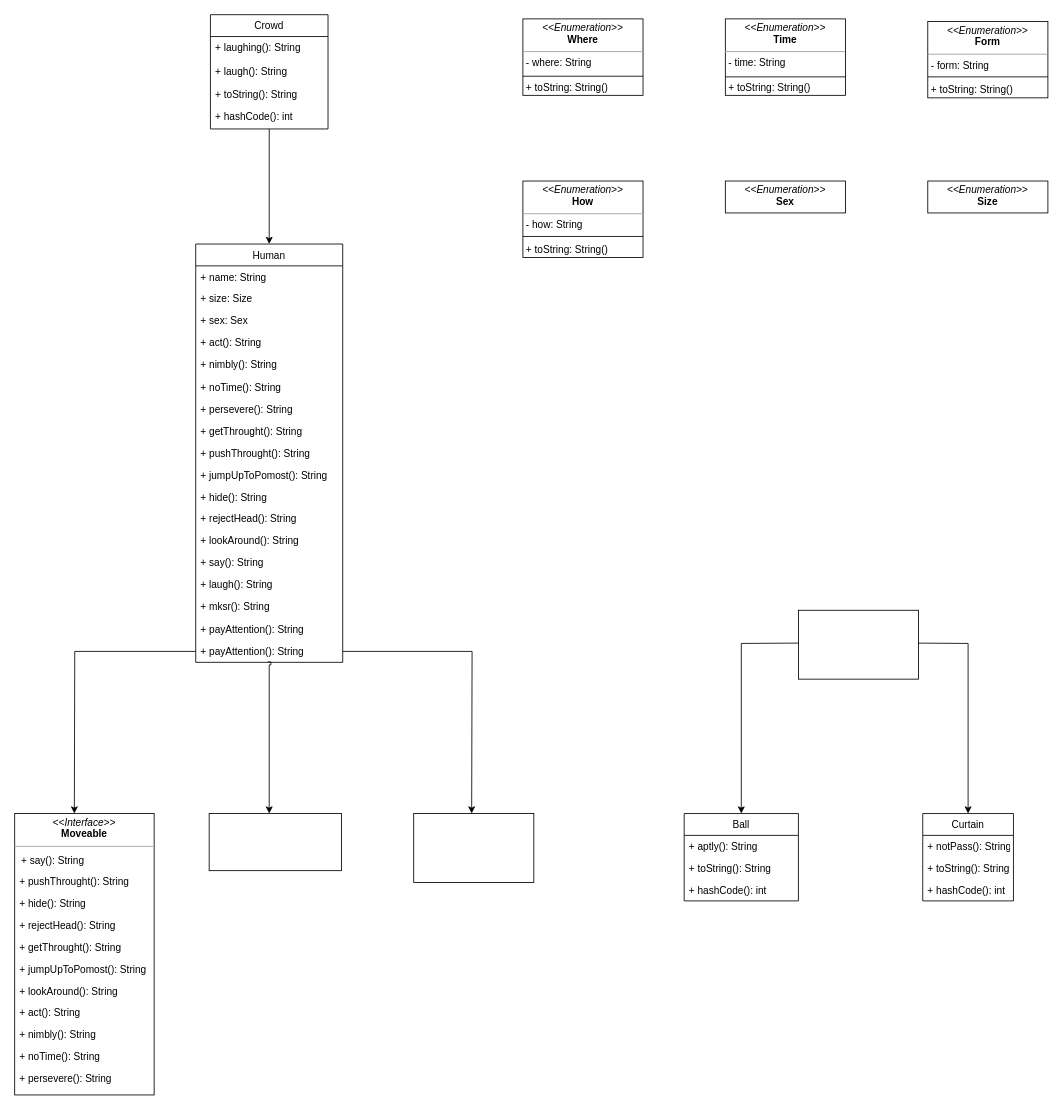
Some shapes in this 1063 by 1110 pixel diagram are drawn without their labels. Each missing label, with the centre of its shape:
<<Abstract>> Item + name: String + size: Size: point 858,644
<<Interface>> Cognitiveable + mksr(): String + payAttention(): String: point 473,847
<<Interface>> Emotionable + laugh(): String: point 274,842
